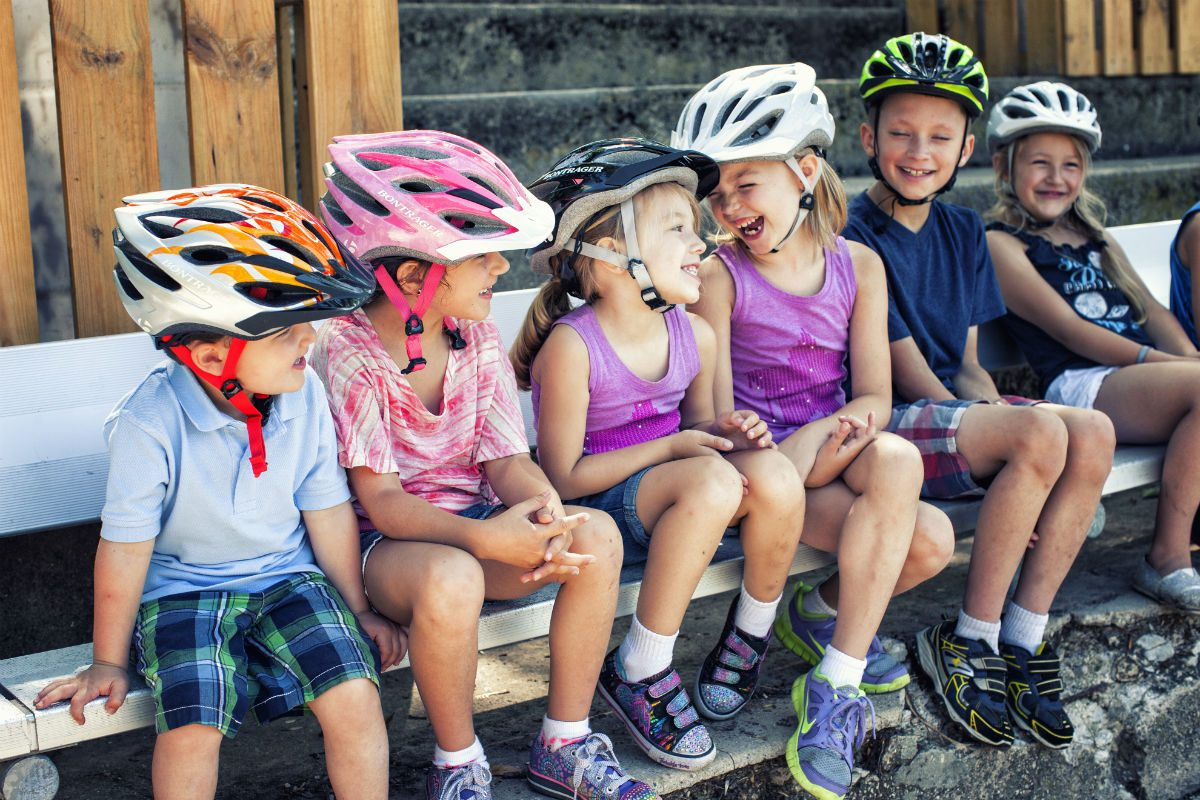helmet: (112, 182, 377, 396), (319, 129, 556, 321), (669, 60, 837, 256), (526, 138, 721, 305), (857, 31, 990, 201), (985, 80, 1102, 219)
